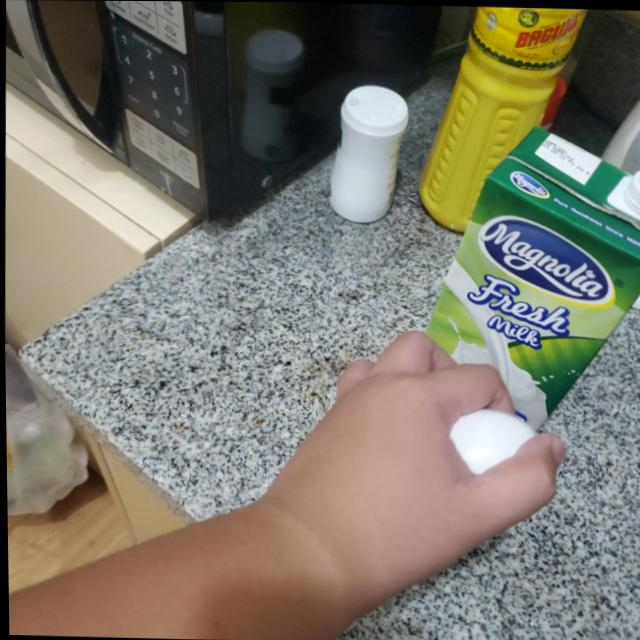egg: (445, 412, 538, 476)
milk: (415, 120, 640, 430)
